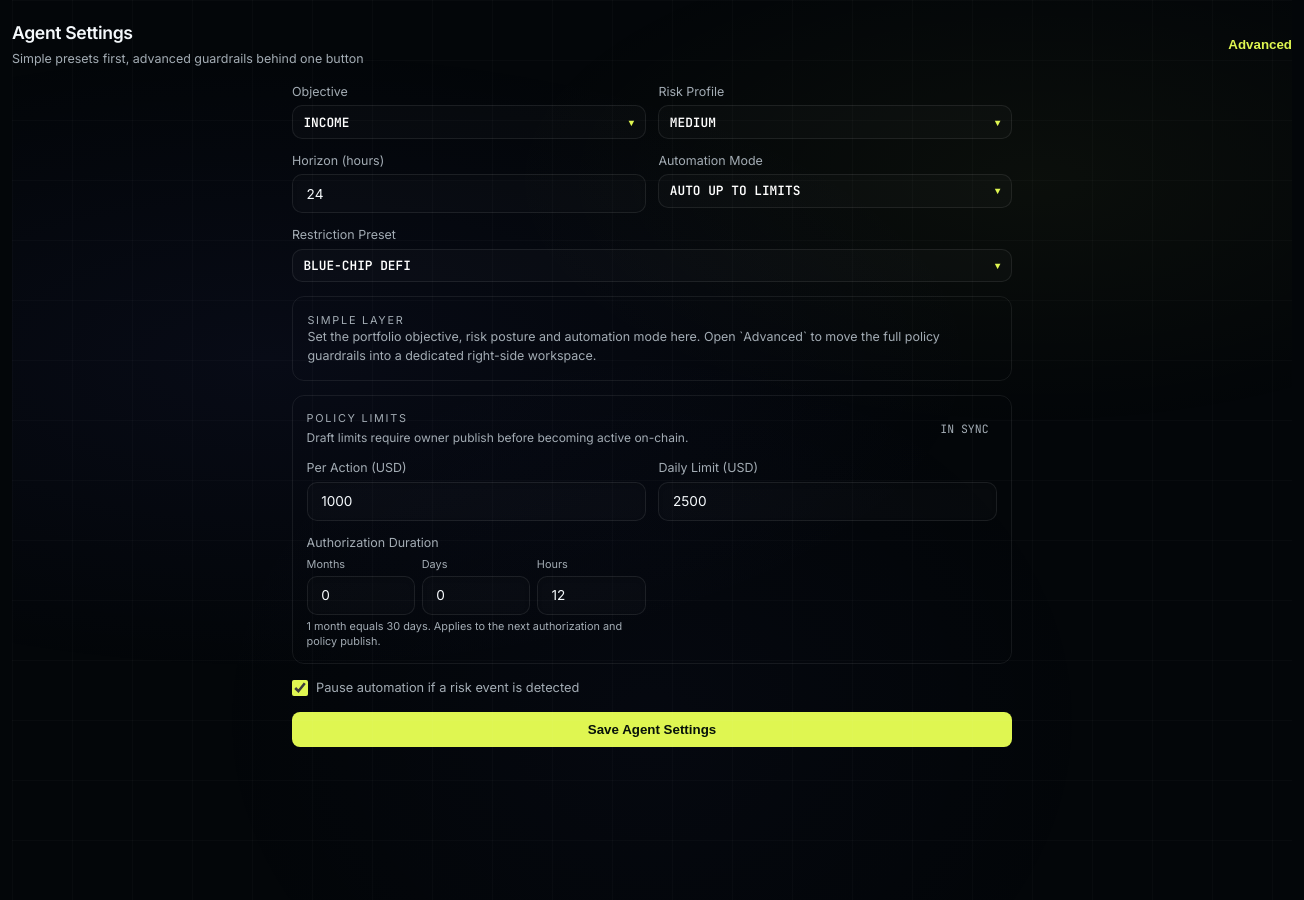
Test case: AgentSettingsPanel policy limits › blocks authorization durations outside the supported range
The width and height of the screenshot is (1304, 900).
Replace the text in the number field named "Authorization Months" with "12" at (361, 595), box [307,576,415,615]
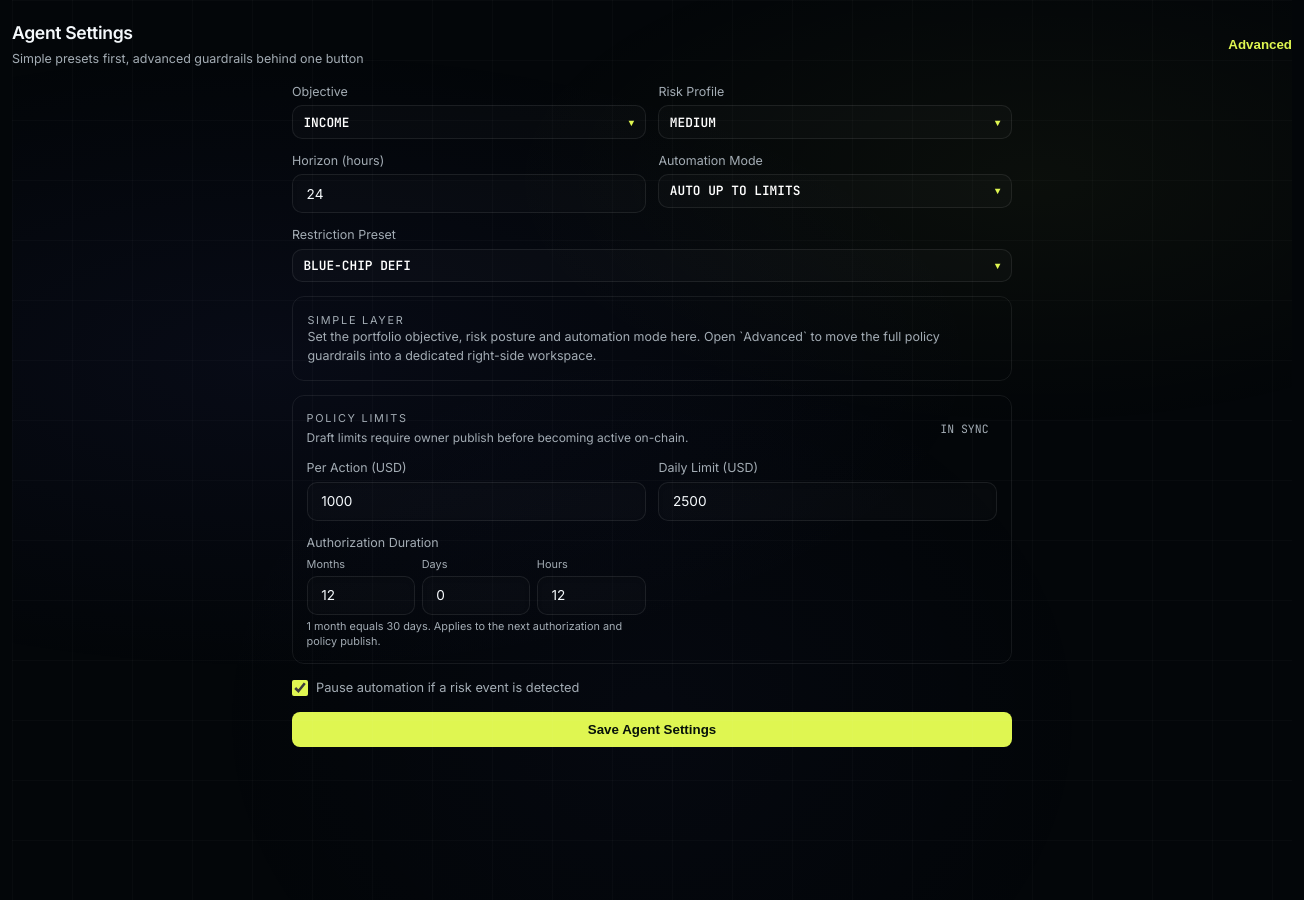
Replace the text in the number field named "Authorization Hours" with "1" at (591, 595), box [537,576,646,615]
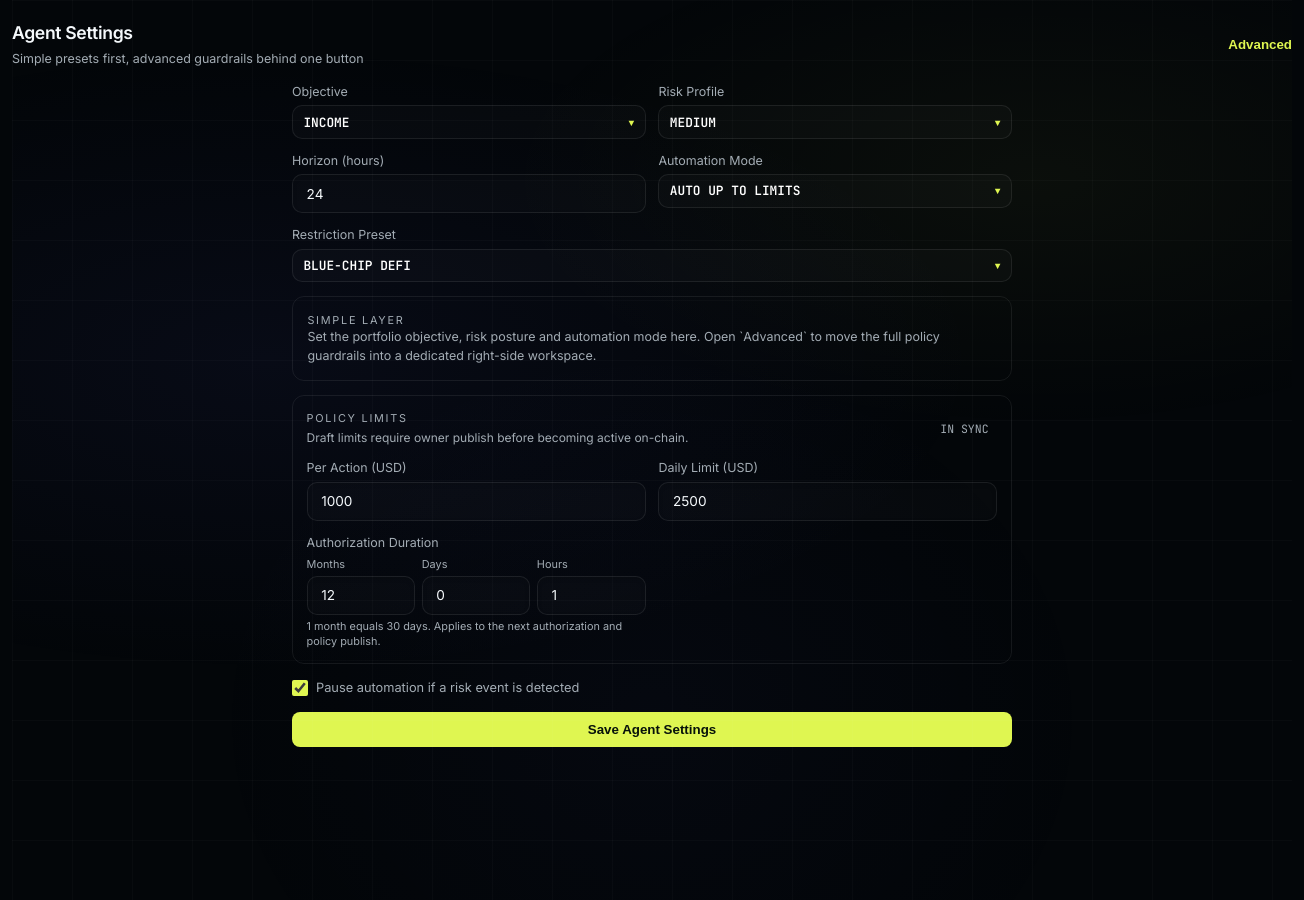
Click the button "Save Agent Settings" at (652, 730), box [292,712,1012,748]
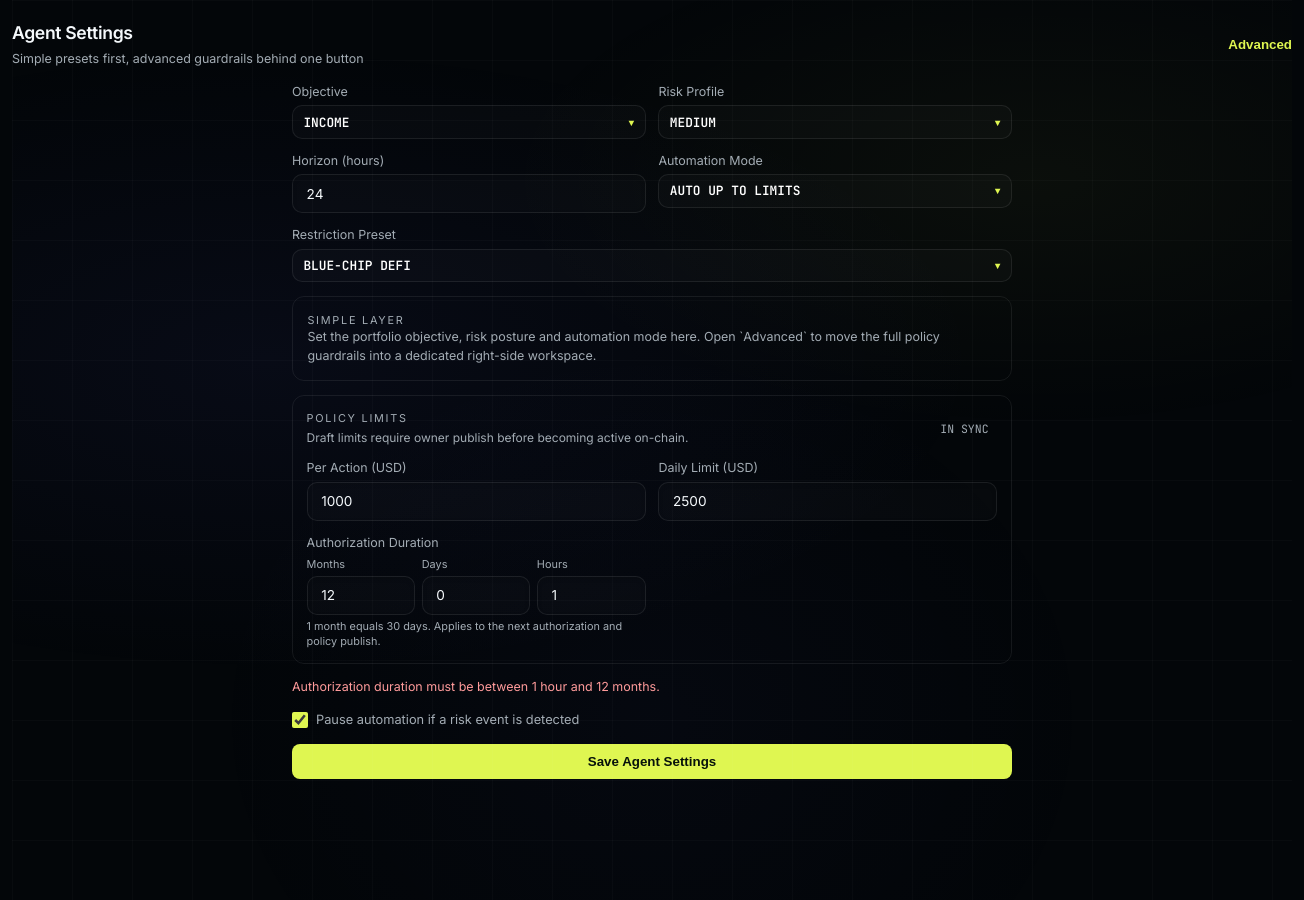
Now the text "Authorization duration must be between 1 hour and 12 months." is shown, box [292,679,660,694]
